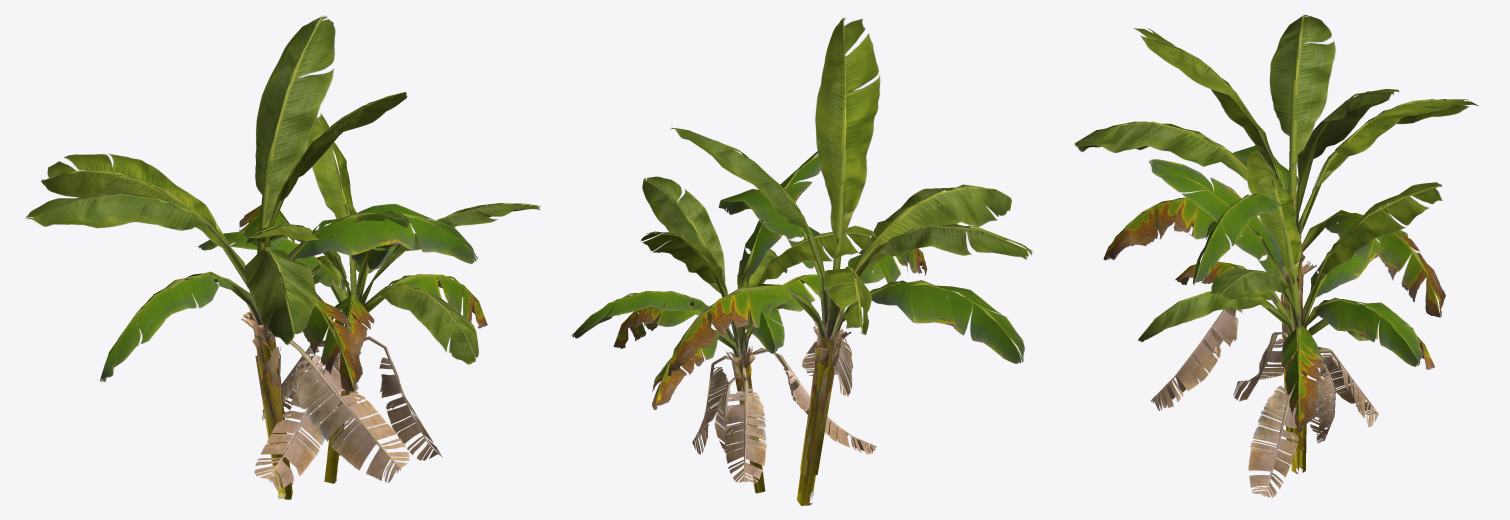
Rendered from banana_detailed_lod.glb.
3 views of the same model, side by side, from view 1: azimuth 30°, elevation 25°; view 2: azimuth 150°, elevation 25°; view 3: azimuth 270°, elevation 25° (orthographic). The views are drawn at different scales.
Visible parts, largest first — view 1: Banana_Plant_01_LOD0; view 2: Banana_Plant_01_LOD0; view 3: Banana_Plant_01_LOD0.
Part boxes in pixels (x1,y1,x2,y2): Banana_Plant_01_LOD0: [25, 15, 540, 499]; Banana_Plant_01_LOD0: [571, 18, 1032, 505]; Banana_Plant_01_LOD0: [1074, 14, 1478, 497].
Bounding box in the file's own units: 3.87 × 3.6 × 3.17.
1 material, 1 textured.
